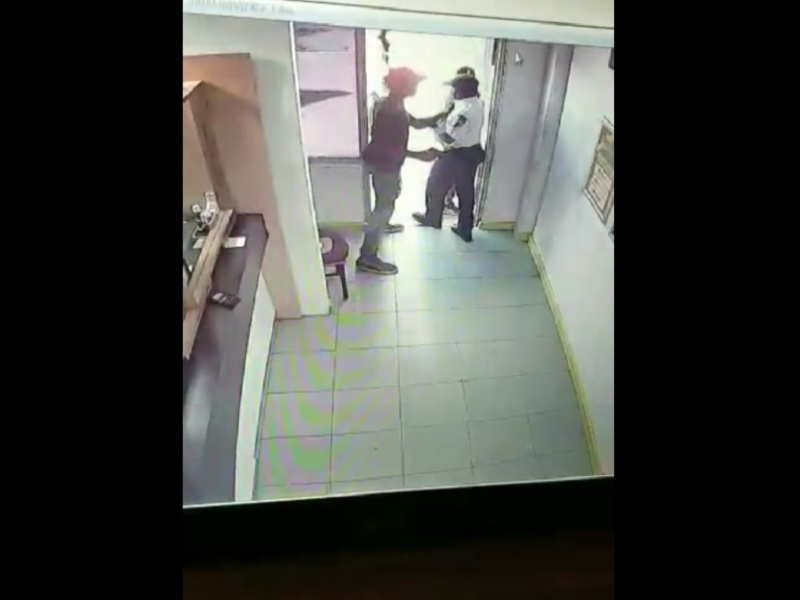person: (348, 62, 446, 281), (409, 55, 493, 247)
